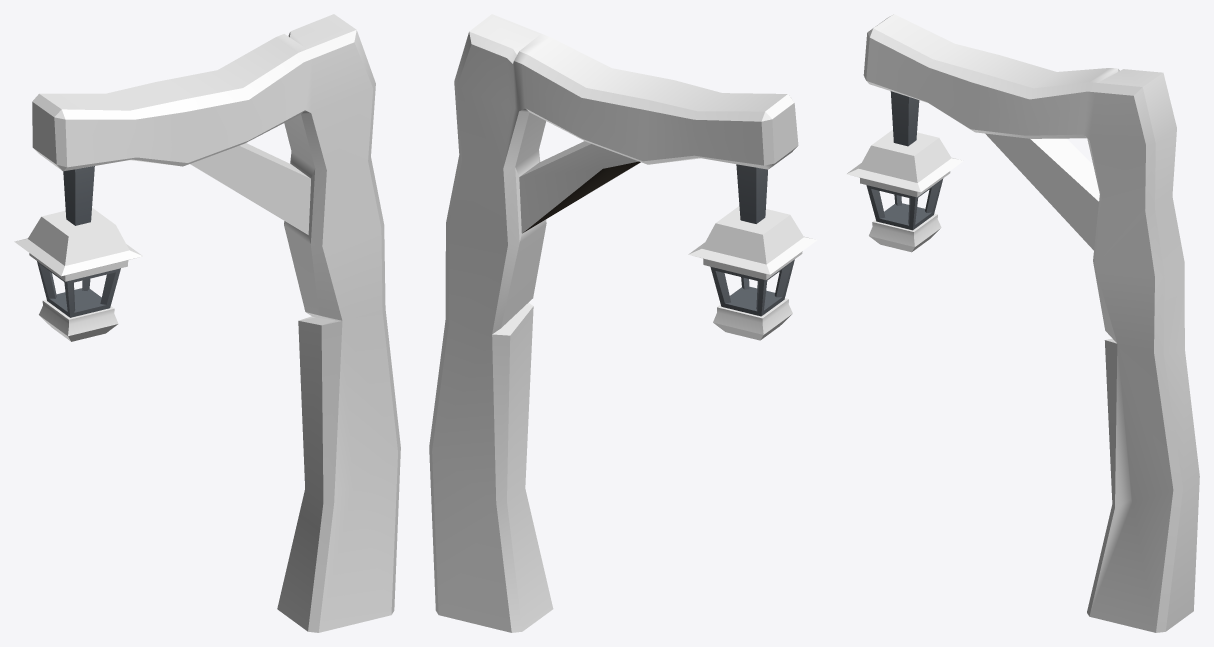
The model's file is farola1.fbx.
3 renders of one model, left to right at view 1: azimuth 30°, elevation 25°; view 2: azimuth 150°, elevation 25°; view 3: azimuth 330°, elevation 25°, orthographic. The views are drawn at different scales.
Parts seen in each view (by area): view 1: FarolaPrueba1; view 2: FarolaPrueba1; view 3: FarolaPrueba1.
Boxes of the visible parts, x1=… form: FarolaPrueba1: x1=14, y1=14, x2=400, y2=632; FarolaPrueba1: x1=429, y1=14, x2=817, y2=632; FarolaPrueba1: x1=846, y1=14, x2=1199, y2=632.
Bounding box in the file's own units: 696 × 1097 × 161.
